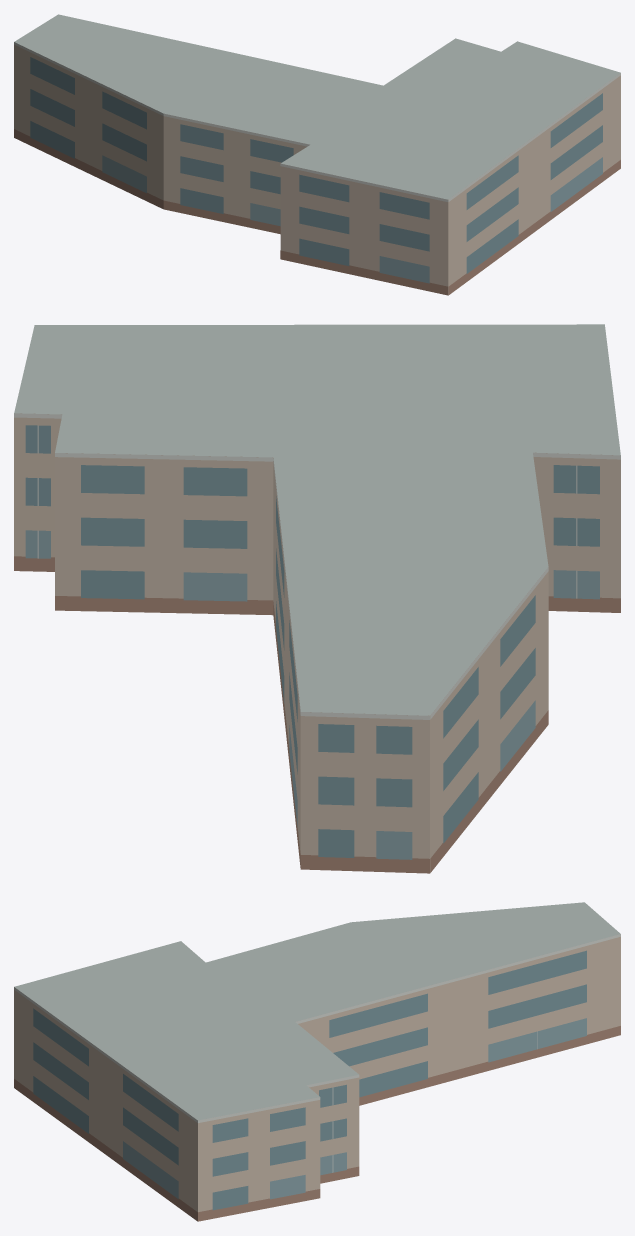
Rendered from survey-upis-32469988.glb.
The picture shows the model from 3 angles, top to bottom: view 1: azimuth 30°, elevation 25°; view 2: azimuth 150°, elevation 25°; view 3: azimuth 270°, elevation 25°; orthographic projection. The views are drawn at different scales.
Visible parts, largest first — view 1: survey-upis-32469988.tmp; view 2: survey-upis-32469988.tmp; view 3: survey-upis-32469988.tmp.
Part boxes in pixels (x1,y1,x2,y2): survey-upis-32469988.tmp: (14, 14, 620, 295); survey-upis-32469988.tmp: (14, 324, 620, 873); survey-upis-32469988.tmp: (14, 902, 620, 1221).
Bounding box in the file's own units: 42.11 × 9.1 × 49.48.
